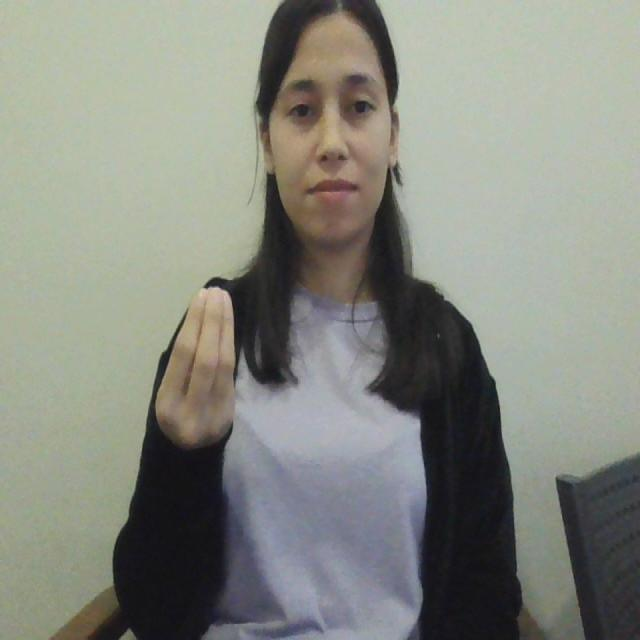iyi: (144, 265, 251, 457)
